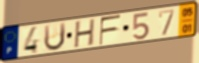4: (21, 26, 41, 55)
5: (131, 10, 151, 41)
7: (157, 8, 176, 38)
F: (99, 13, 123, 47)
H: (73, 17, 97, 50)
U: (43, 21, 68, 53)
